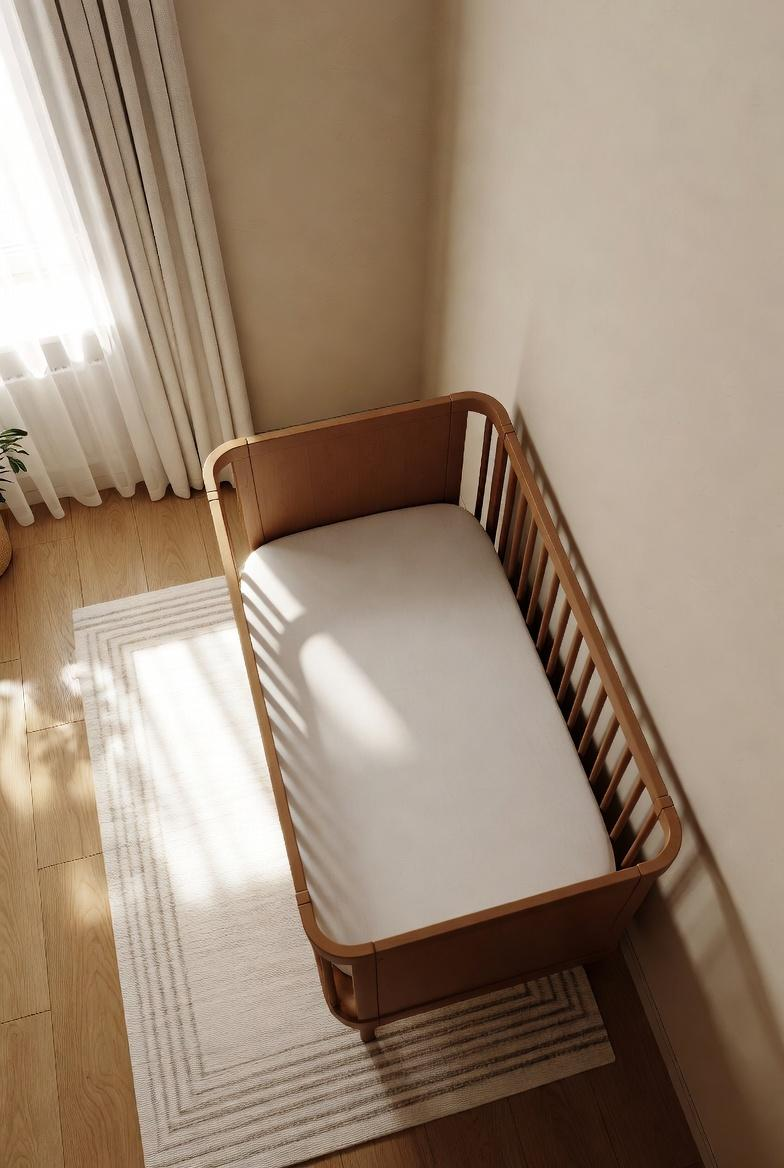crib: (197, 387, 697, 1052)
